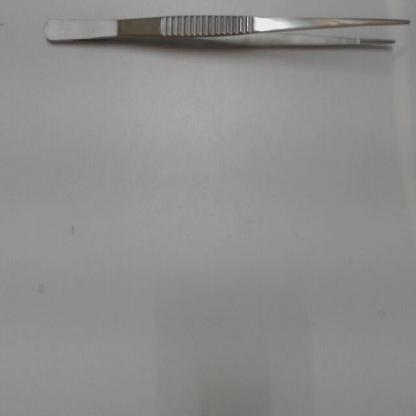DeBakey Dissector: (36, 11, 414, 86)
